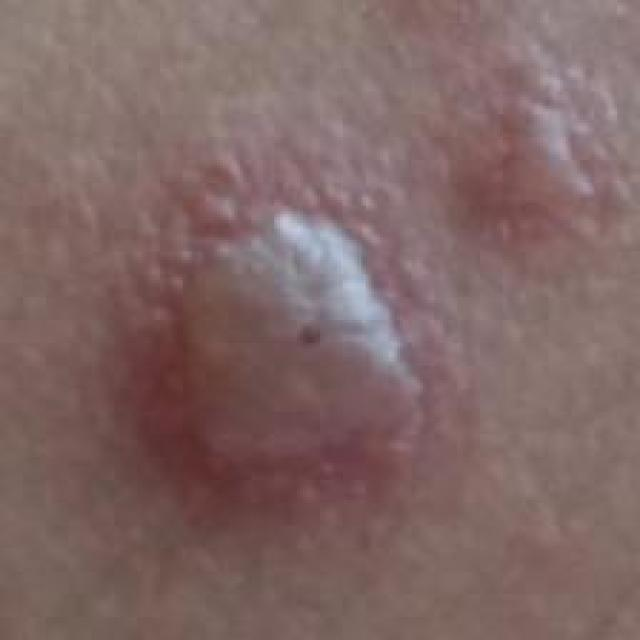others: (132, 87, 594, 564)
